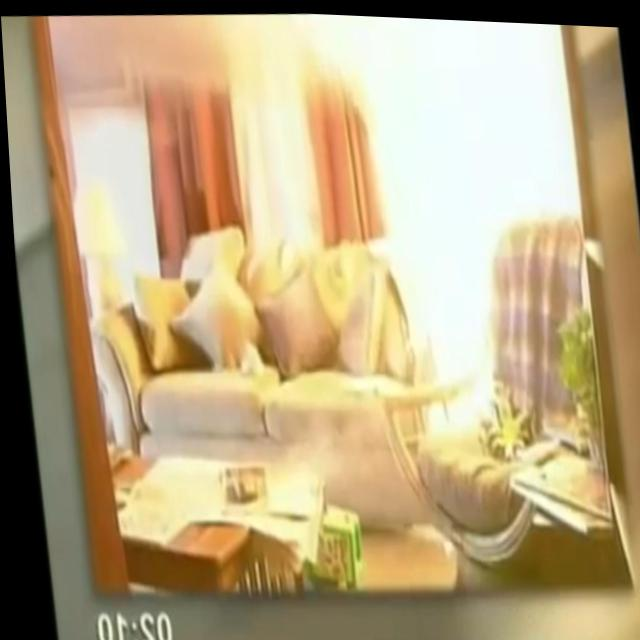fire: (350, 27, 509, 427)
